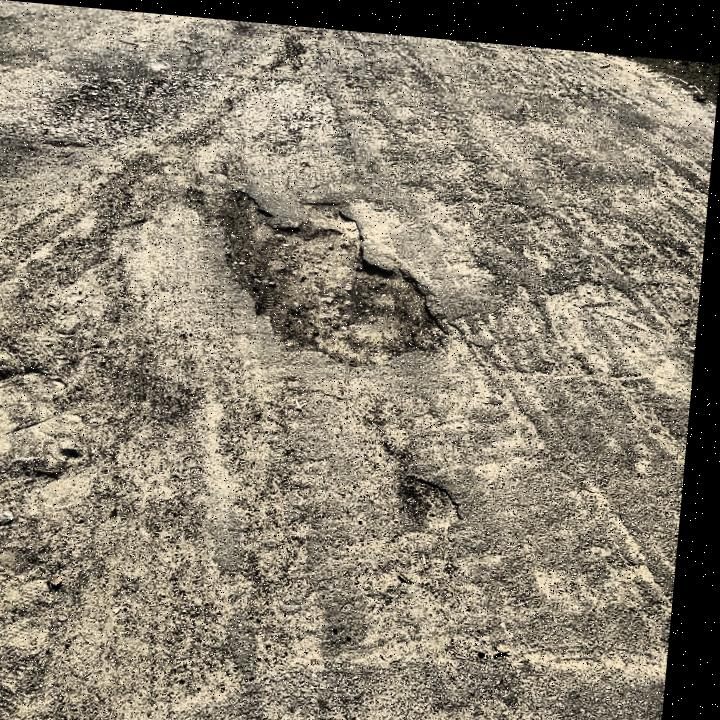pothole: (211, 179, 468, 367), (406, 463, 475, 526)
